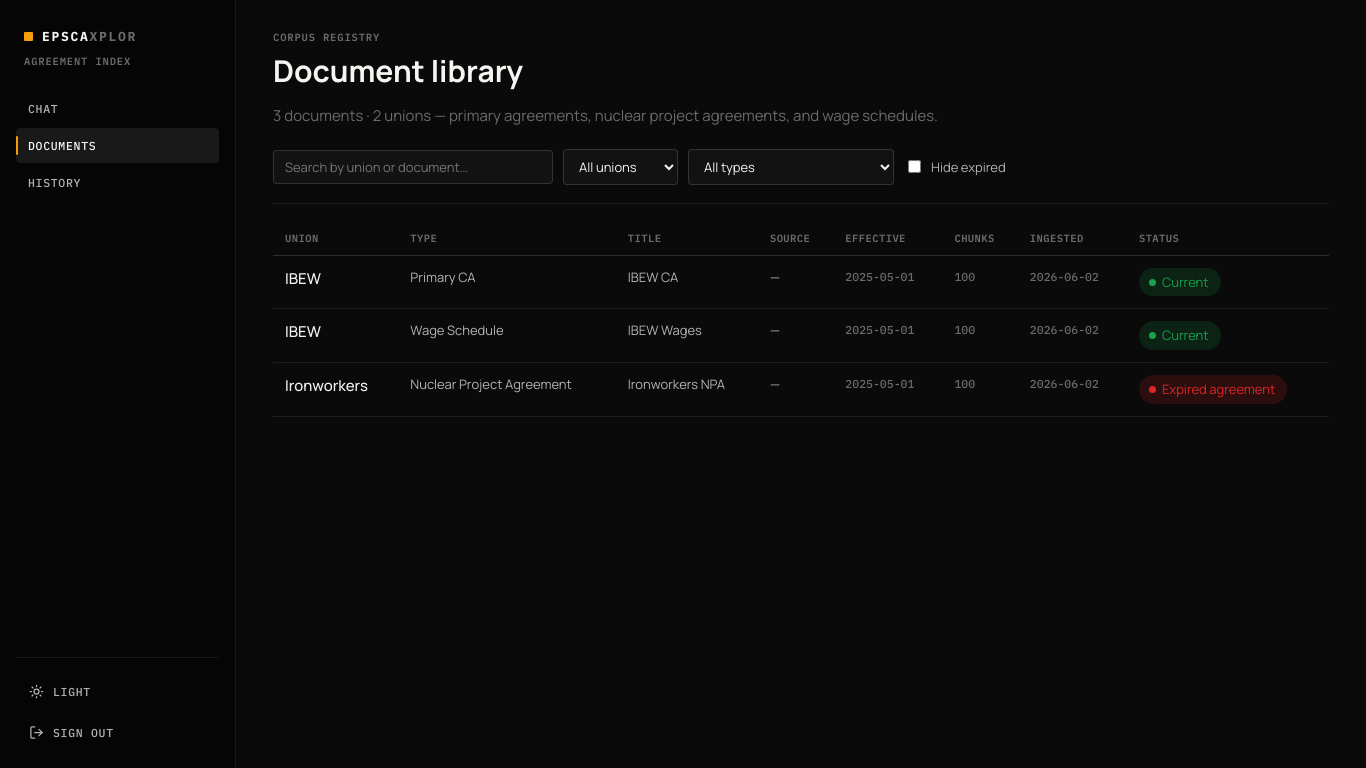
DocumentsPage › refetches server-side when a union is selected
The image size is (1366, 768).
Check: the text "IBEW CA" is shown, box [616,255,758,309]
Step 1. Select "IBEW" in the dropdown named "Union filter" → (620, 167), box [563,149,678,185]
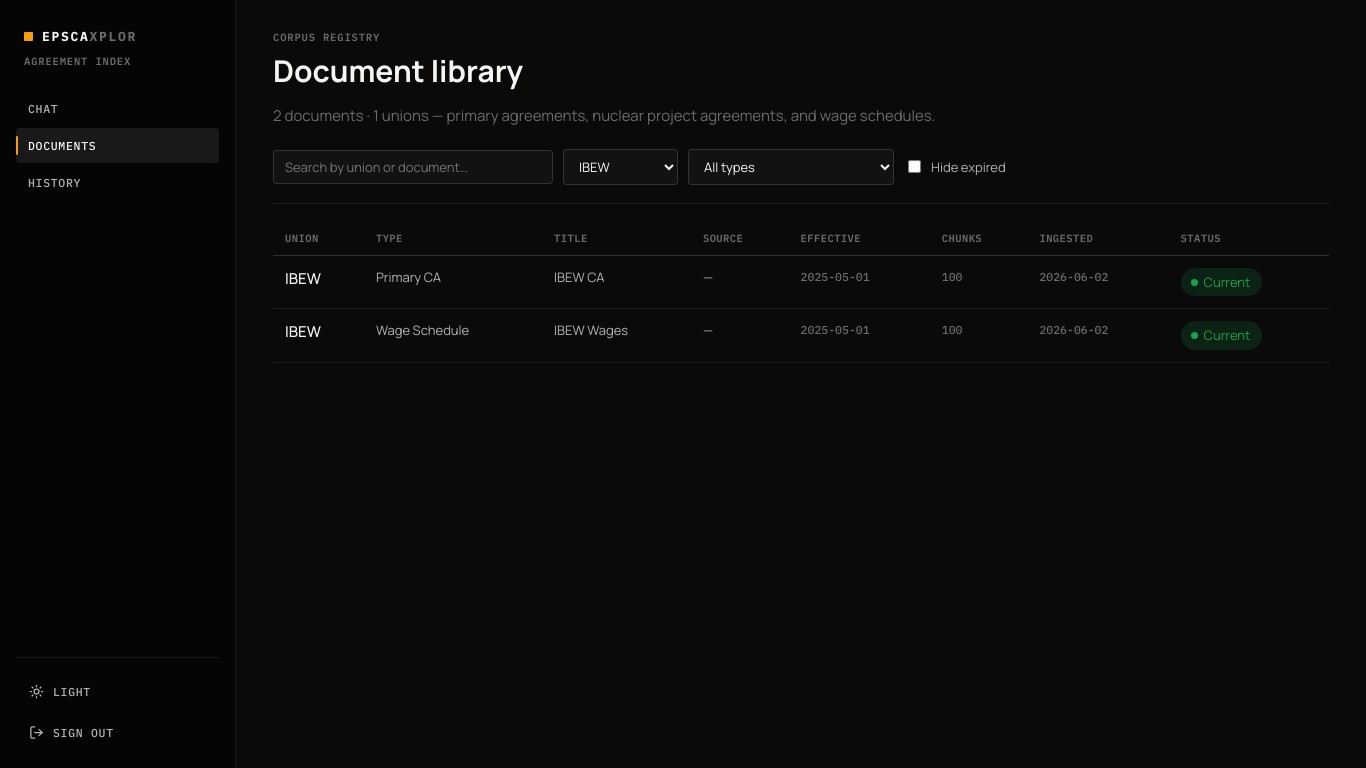
Check: the text "Ironworkers NPA" is gone
